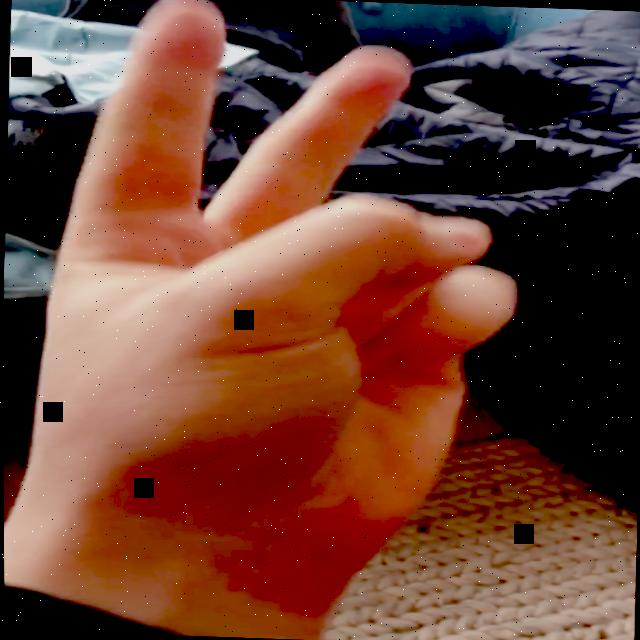Scissors: (5, 0, 528, 560)
